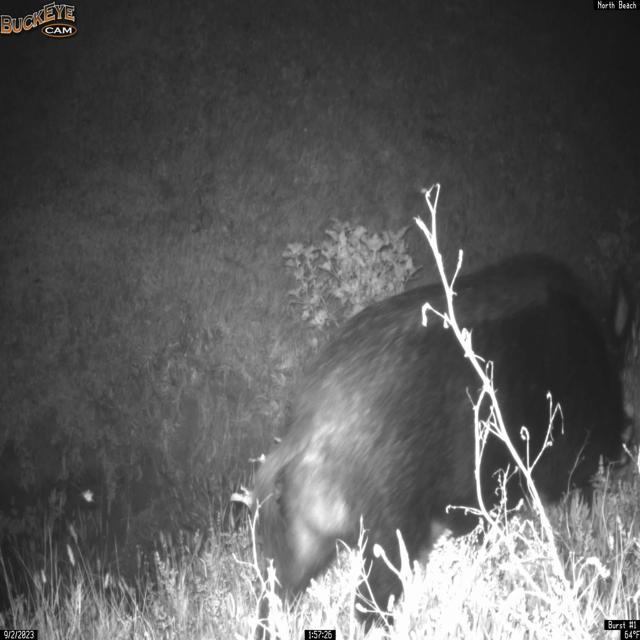pig: (248, 250, 639, 640)
